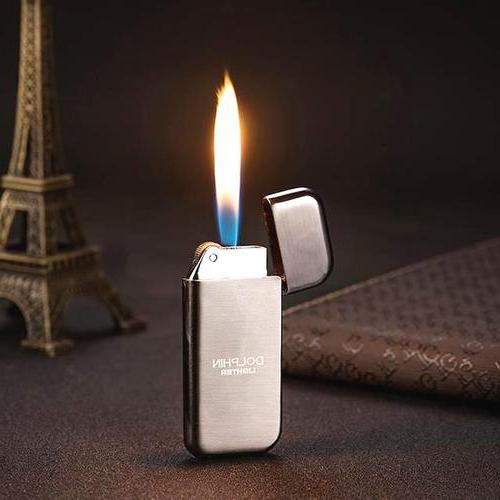fire: (205, 65, 259, 254)
